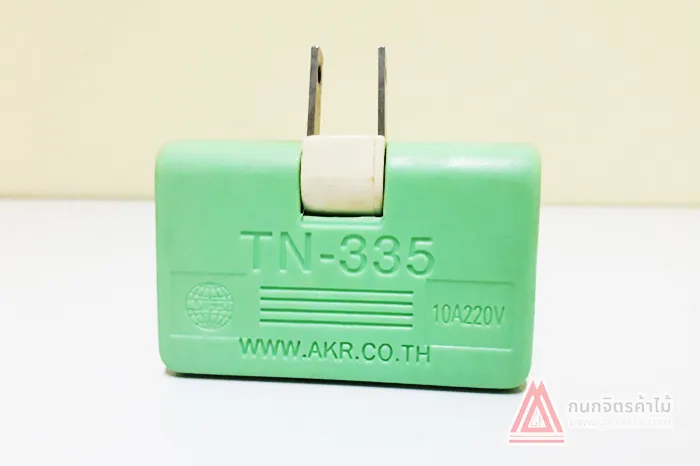Three_eye_plug: (146, 34, 552, 399)
